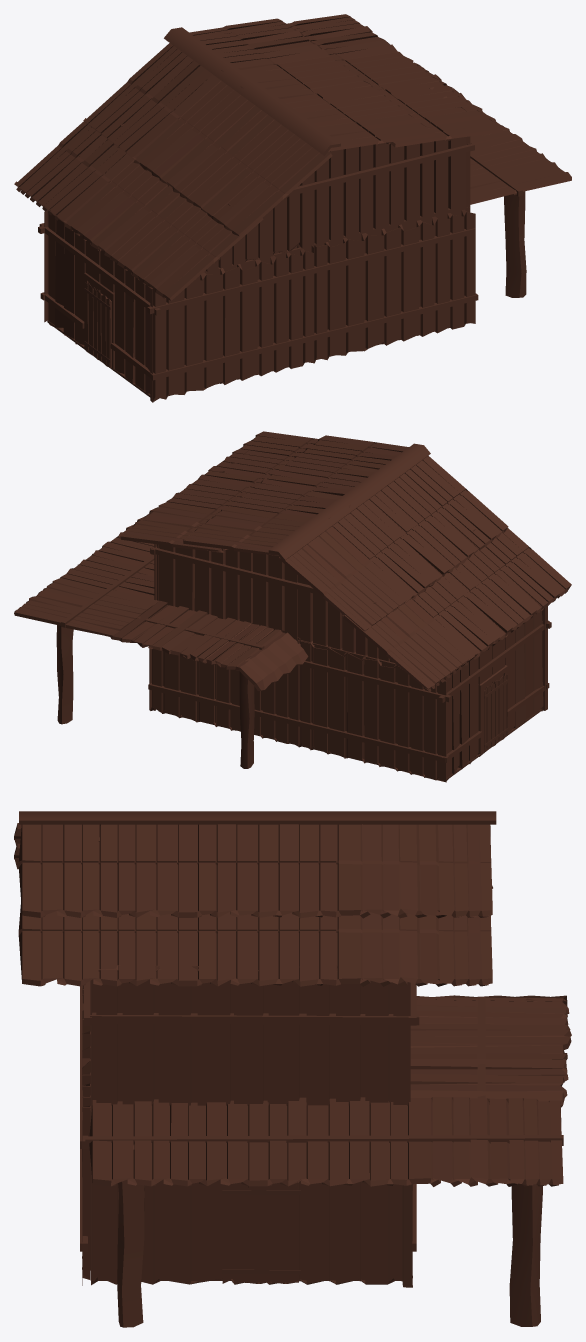
File: 3D_house1.fbx
3 views of the same model, one above another, from view 1: azimuth 30°, elevation 25°; view 2: azimuth 150°, elevation 25°; view 3: azimuth 270°, elevation 25° (orthographic). The views are drawn at different scales.
Visible parts, largest first — view 1: Plane.010, Cube.005, Cube.001, Plane.011, Plane.013, Plane.007, Plane.012, Cube.002; view 2: Plane.010, Cube.001, Cube.003, Plane.011, Plane.007, Plane.013, Plane.012, Cube.002, Plane.008, Cube.005, Plane.009; view 3: Plane.011, Plane.007, Cube.004, Cube.001, Cube.007, Plane.012, Plane.013, Plane.008, Cube.005, Cube.003, Plane.009.
Part boxes in pixels (left/top/right/bottom): Plane.010: left=14, top=43, right=332, bottom=300; Cube.005: left=150, top=209, right=475, bottom=402; Cube.001: left=47, top=137, right=526, bottom=401; Plane.011: left=189, top=14, right=502, bottom=151; Plane.013: left=38, top=124, right=478, bottom=380; Plane.007: left=414, top=62, right=571, bottom=204; Plane.012: left=164, top=27, right=340, bottom=155; Cube.002: left=84, top=282, right=111, bottom=368; Plane.010: left=279, top=456, right=571, bottom=691; Cube.001: left=56, top=544, right=543, bottom=781; Cube.003: left=149, top=640, right=446, bottom=782; Plane.011: left=120, top=431, right=408, bottom=555; Plane.007: left=14, top=507, right=308, bottom=690; Plane.013: left=148, top=529, right=551, bottom=762; Plane.012: left=268, top=443, right=430, bottom=561; Cube.002: left=484, top=673, right=508, bottom=752; Plane.008: left=61, top=555, right=154, bottom=627; Cube.005: left=542, top=606, right=547, bottom=710; Plane.009: left=136, top=616, right=264, bottom=649; Plane.011: left=18, top=824, right=492, bottom=986; Plane.007: left=89, top=995, right=571, bottom=1186; Cube.004: left=90, top=965, right=410, bottom=1285; Cube.001: left=90, top=837, right=542, bottom=1327; Cube.007: left=222, top=1182, right=300, bottom=1283; Plane.012: left=19, top=811, right=496, bottom=824; Plane.013: left=80, top=981, right=419, bottom=1251; Plane.008: left=85, top=1135, right=563, bottom=1147; Cube.005: left=82, top=985, right=90, bottom=1285; Cube.003: left=402, top=1184, right=412, bottom=1287; Plane.009: left=477, top=996, right=485, bottom=1098.
Bounding box in the file's own units: 1401 × 732 × 1041.
